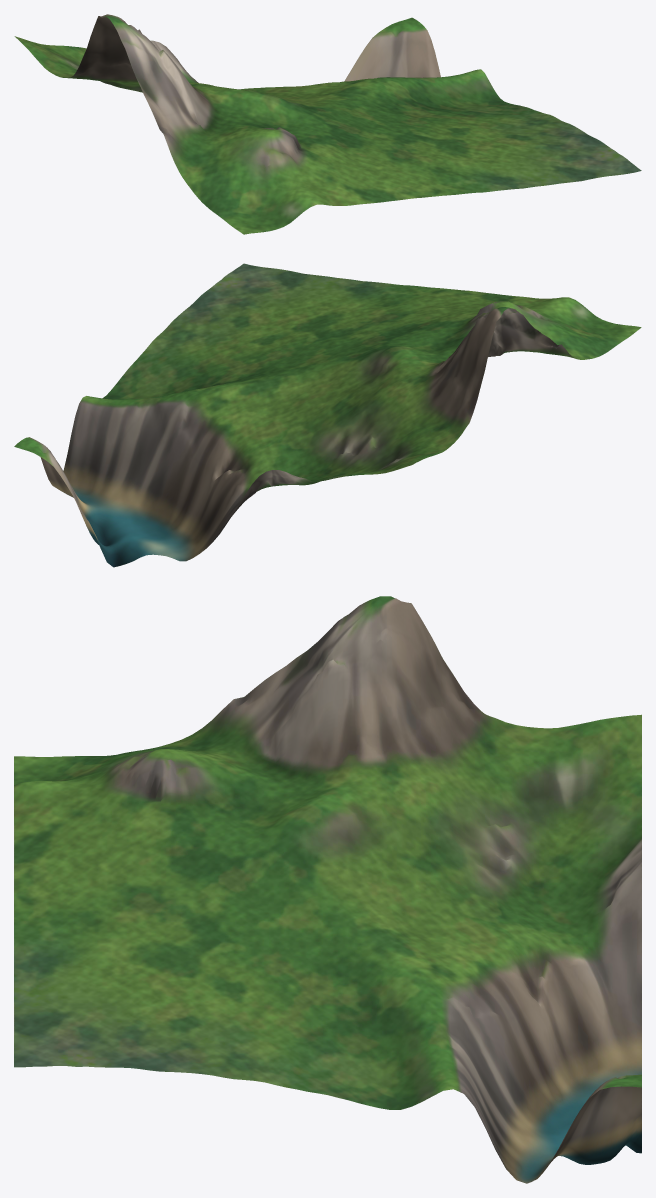
3 renders of one model, top to bottom at view 1: azimuth 30°, elevation 25°; view 2: azimuth 150°, elevation 25°; view 3: azimuth 270°, elevation 25°, orthographic. The views are drawn at different scales.
Parts seen in each view (by area): view 1: t064_064; view 2: t064_064; view 3: t064_064.
Boxes of the visible parts, x1,y1,x2,y2 form: t064_064: (14, 14, 641, 234); t064_064: (14, 263, 641, 567); t064_064: (14, 596, 641, 1183).
Bounding box in the file's own units: 64 × 40.25 × 64.
Materials: 1 (1 with a texture image).
